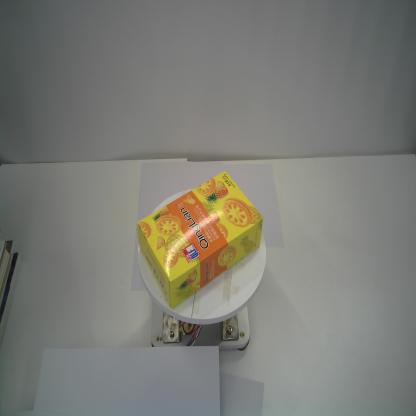Dessert: (135, 169, 264, 310)
